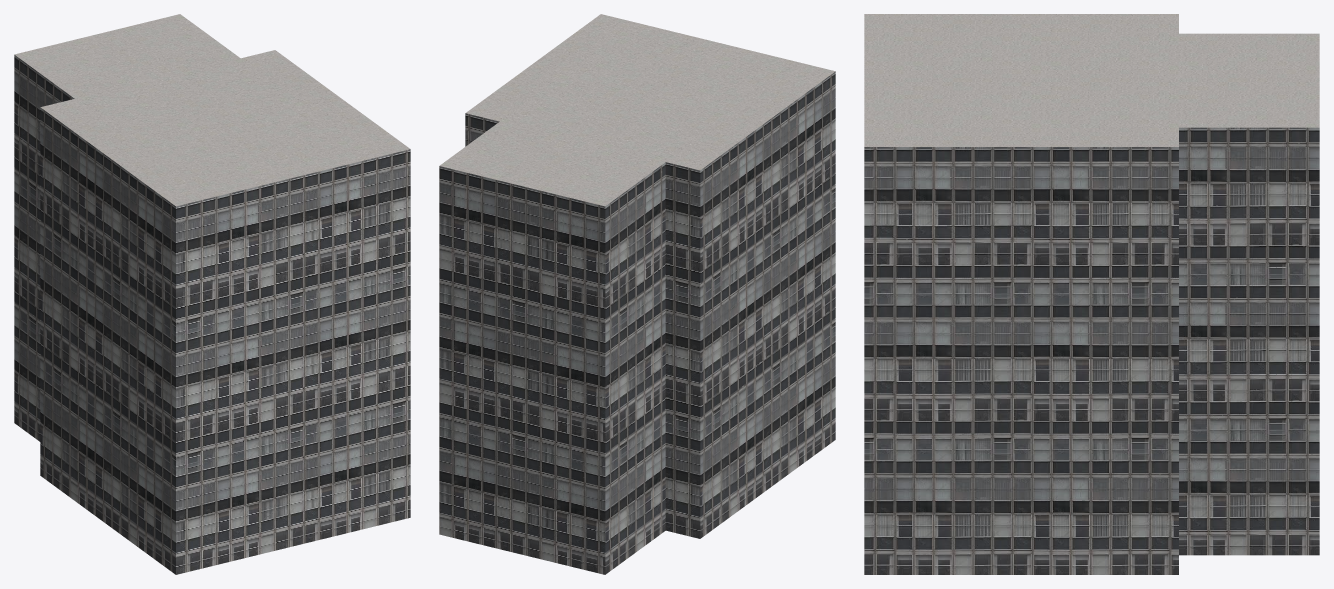
Rendered from building_051.fbx.
3 renders of one model, left to right at view 1: azimuth 30°, elevation 25°; view 2: azimuth 150°, elevation 25°; view 3: azimuth 270°, elevation 25°, orthographic. The views are drawn at different scales.
Parts seen in each view (by area): view 1: building_051; view 2: building_051; view 3: building_051.
Part boxes in pixels (x1,y1,x2,y2): building_051: [14, 14, 410, 574]; building_051: [439, 14, 835, 574]; building_051: [864, 14, 1319, 574].
Size of the model in its own units: 1000 by 1500 by 1447.
